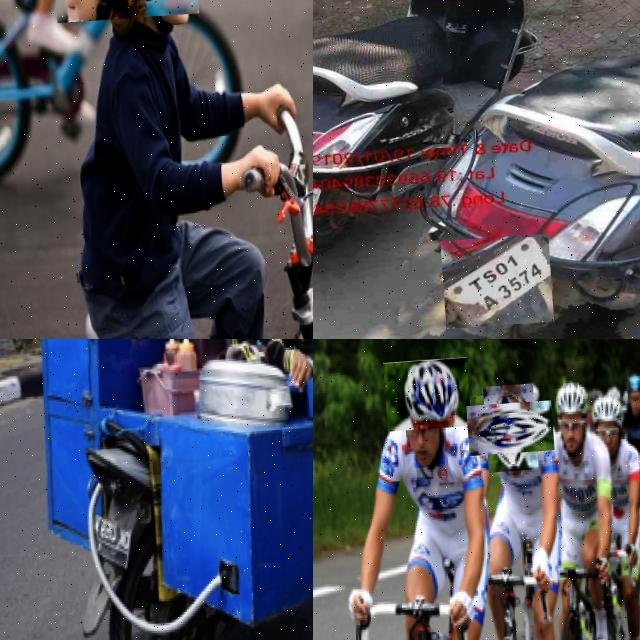helmet: (382, 356, 472, 432), (474, 391, 547, 464), (546, 374, 597, 424), (586, 390, 634, 431), (624, 365, 640, 398)
plate: (440, 234, 554, 328)
